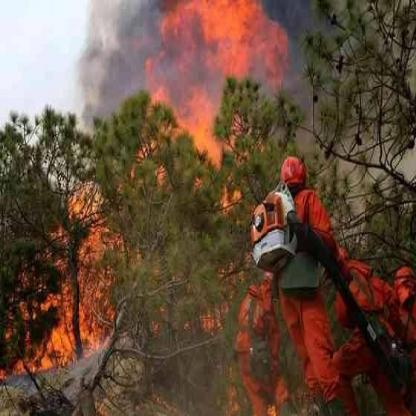fire: (125, 3, 286, 167), (6, 188, 129, 381), (191, 288, 226, 332), (214, 166, 244, 214), (150, 163, 169, 187), (184, 172, 206, 192)
other: (233, 154, 414, 406)
